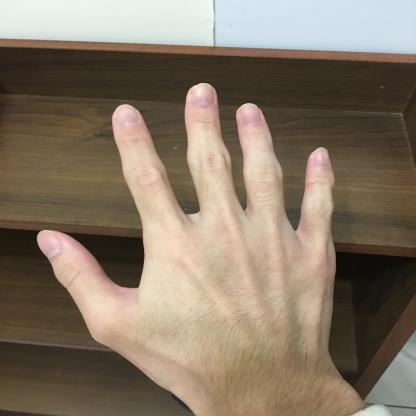bare_hand: (29, 76, 376, 416)
